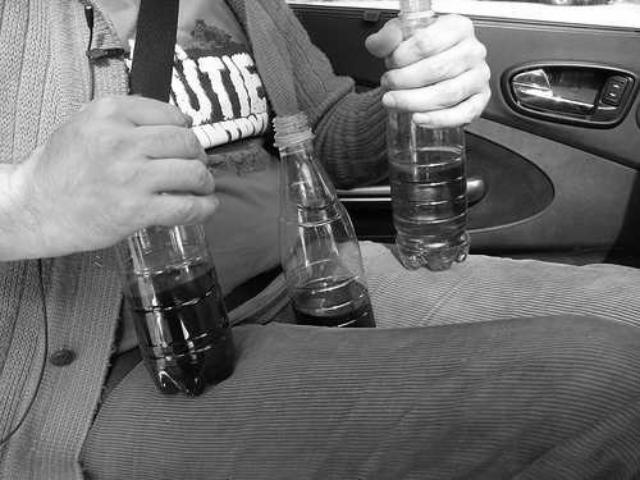Seatbelt: (122, 1, 184, 104)
